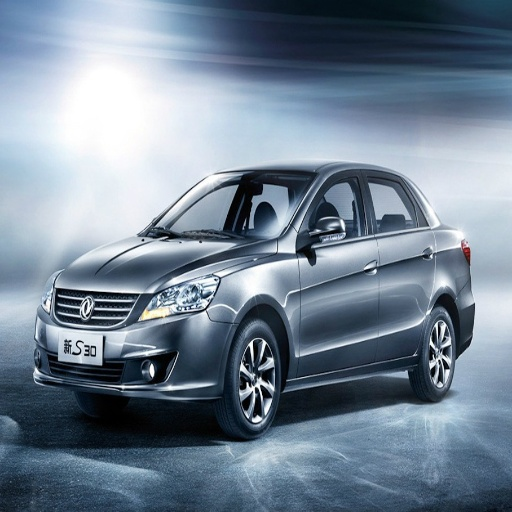back_left_door: (364, 169, 435, 358)
front_bumper: (35, 284, 236, 401)
front_glass: (144, 172, 315, 239)
front_left_door: (299, 170, 378, 373)
